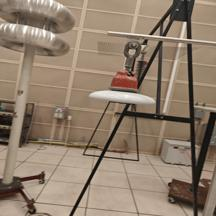insulator: (87, 66, 158, 113)
